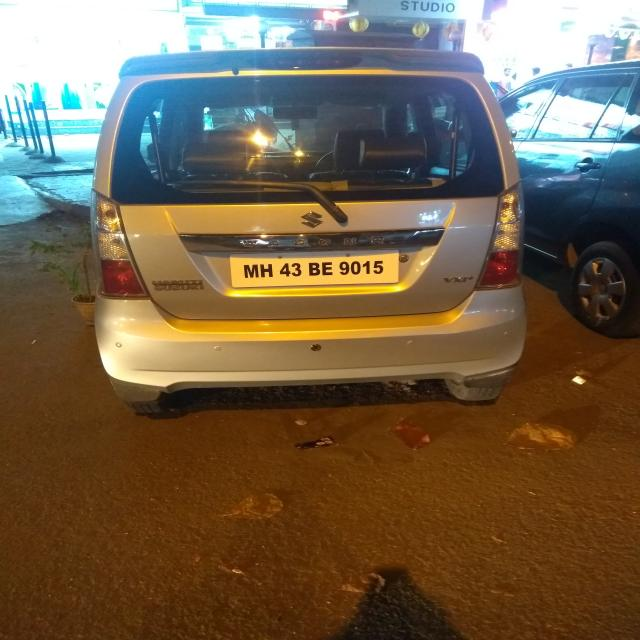Number-Plate: (236, 252, 396, 285)
